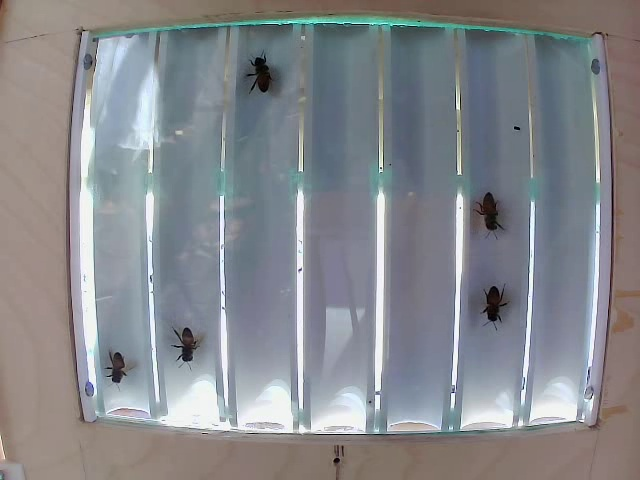bee: (167, 321, 219, 368), (482, 281, 519, 332), (109, 347, 155, 386), (253, 52, 293, 95), (484, 181, 508, 228)
